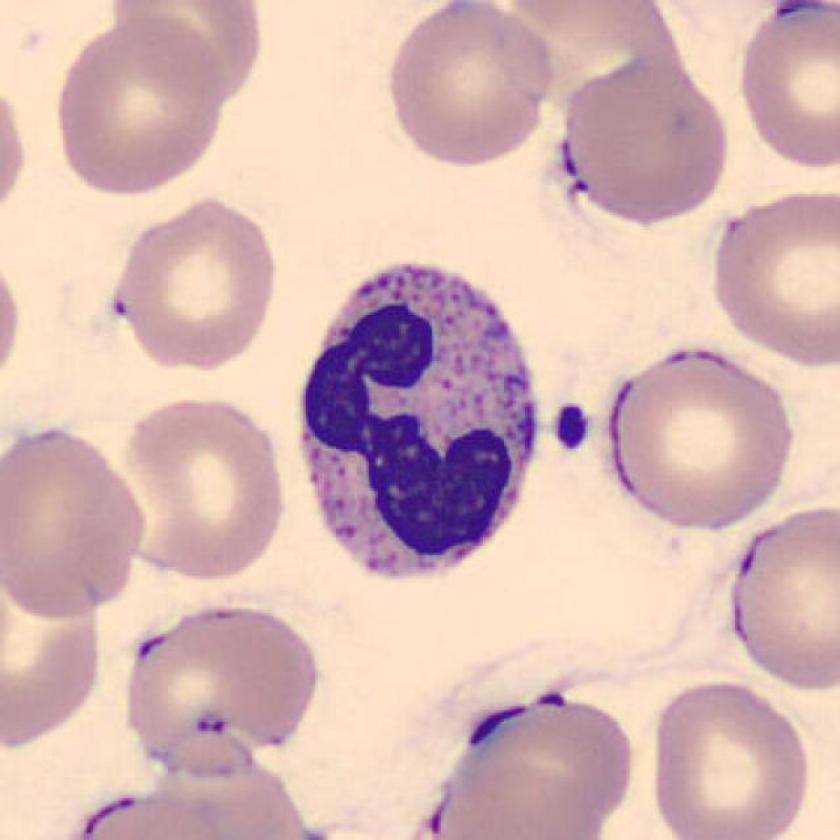neutrophil: (302, 266, 538, 579)
